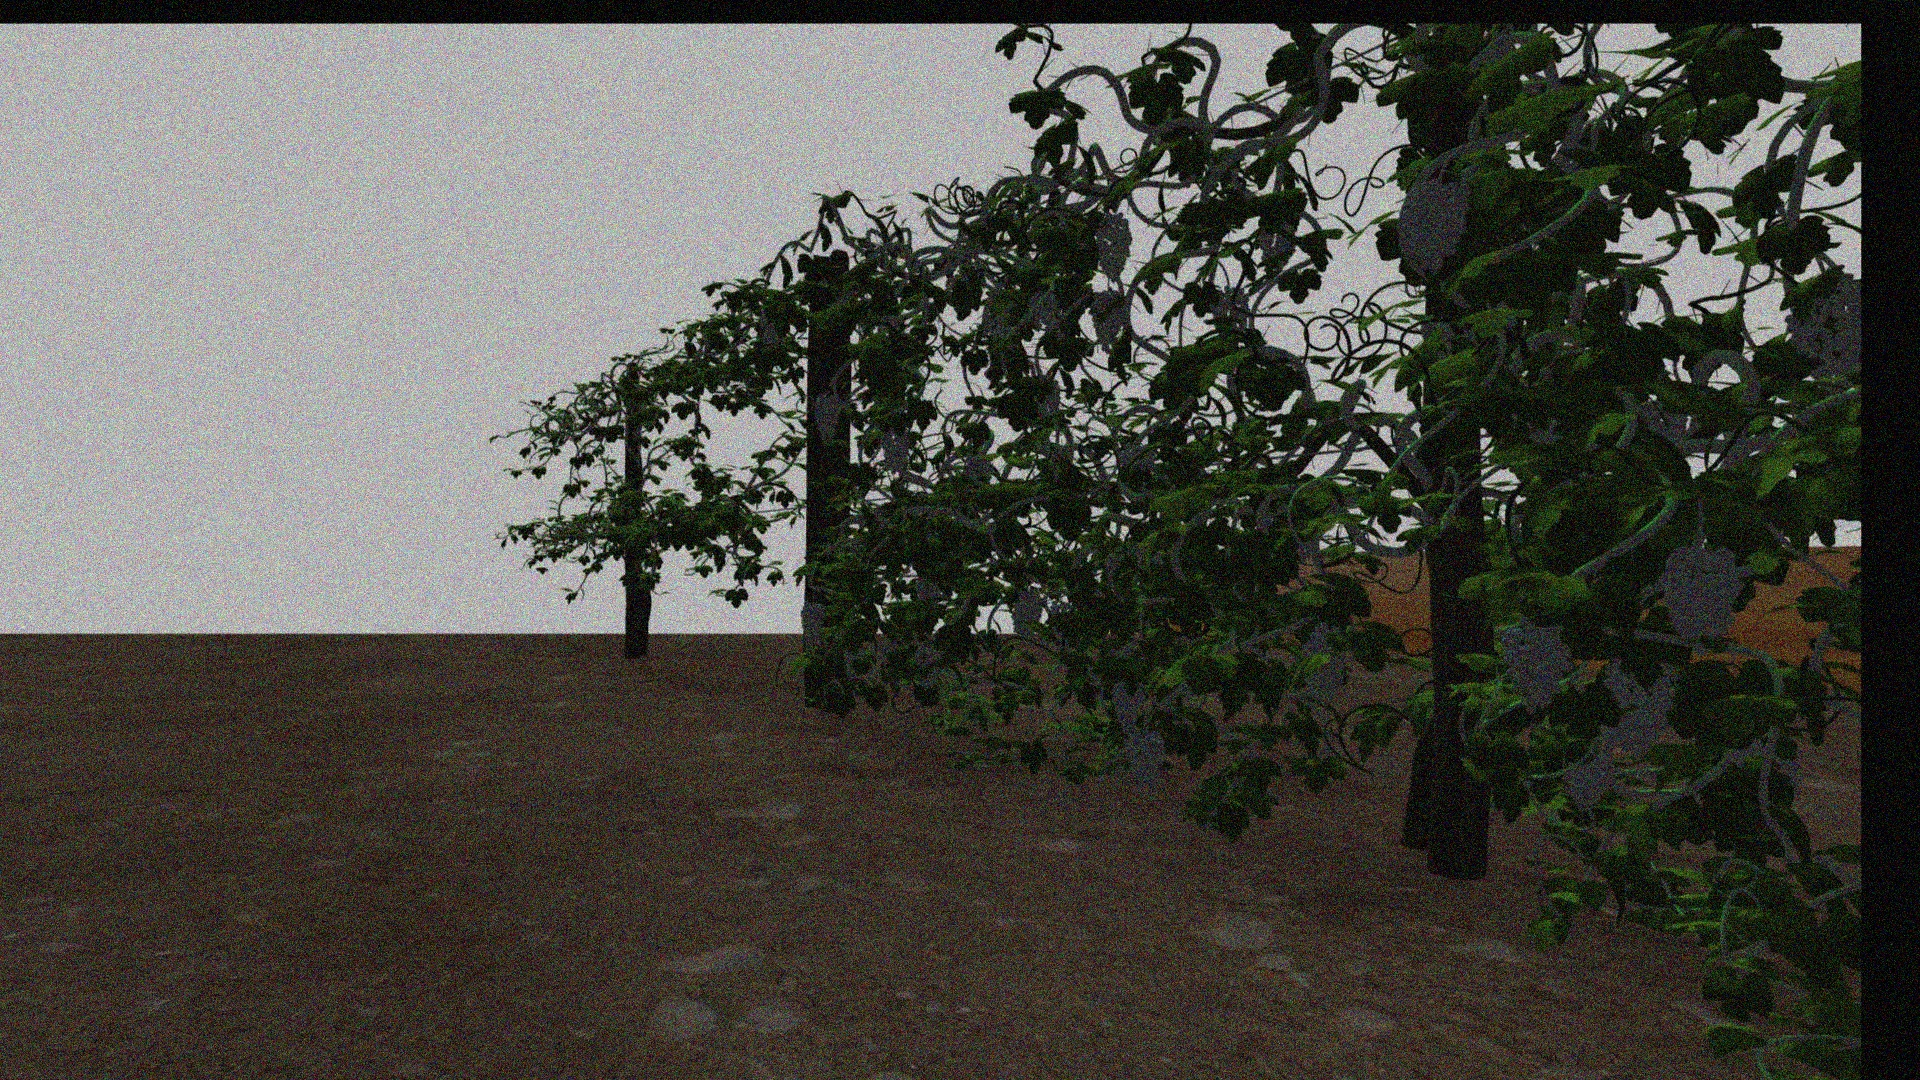grape: (1654, 539, 1743, 644), (1784, 262, 1851, 389), (1394, 175, 1472, 281), (1607, 657, 1679, 758), (1501, 620, 1575, 715), (1303, 622, 1348, 705), (1561, 756, 1615, 814), (1095, 212, 1133, 284), (1122, 731, 1166, 791), (1091, 287, 1127, 355), (1007, 588, 1044, 642), (1112, 680, 1145, 731), (880, 426, 913, 475), (814, 393, 841, 443), (913, 647, 943, 691), (798, 603, 825, 647), (1027, 291, 1062, 324), (756, 313, 782, 348)
